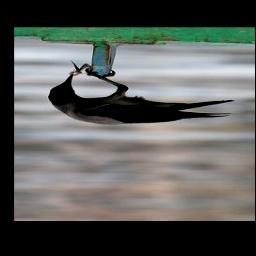Crow: (48, 69, 236, 126)
